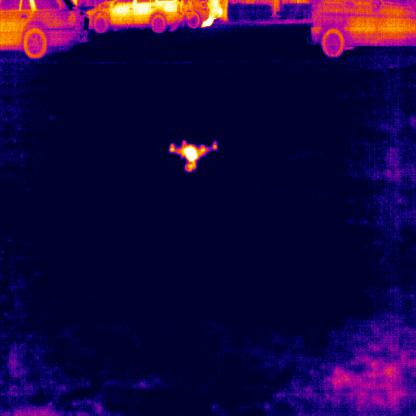drone: (168, 137, 217, 171)
